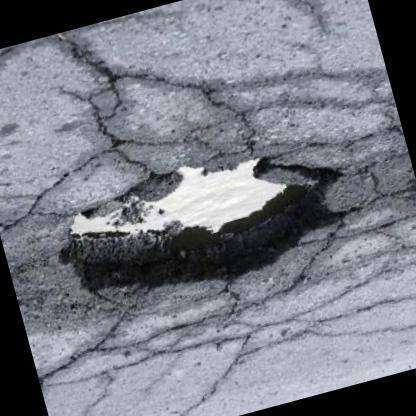pothole: (62, 152, 352, 305)
